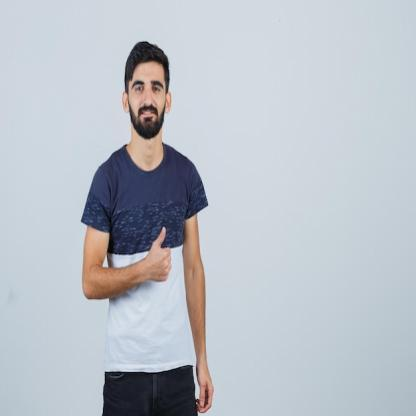thumb_up: (146, 226, 174, 286)
